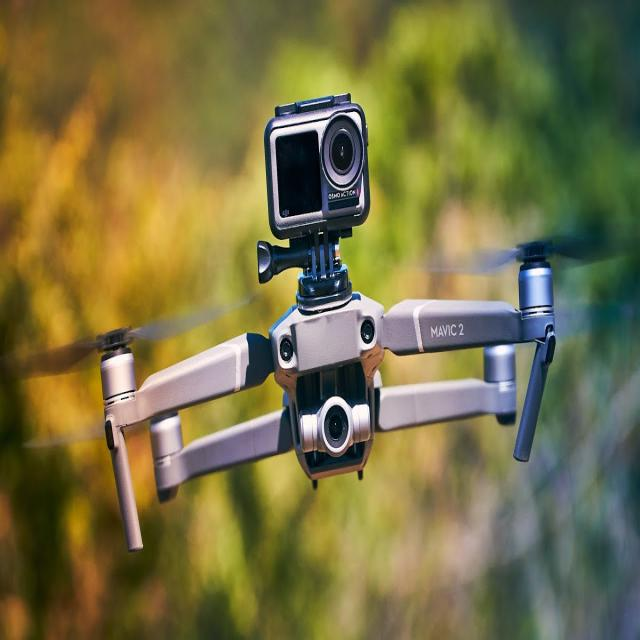drone: (10, 81, 640, 574)
